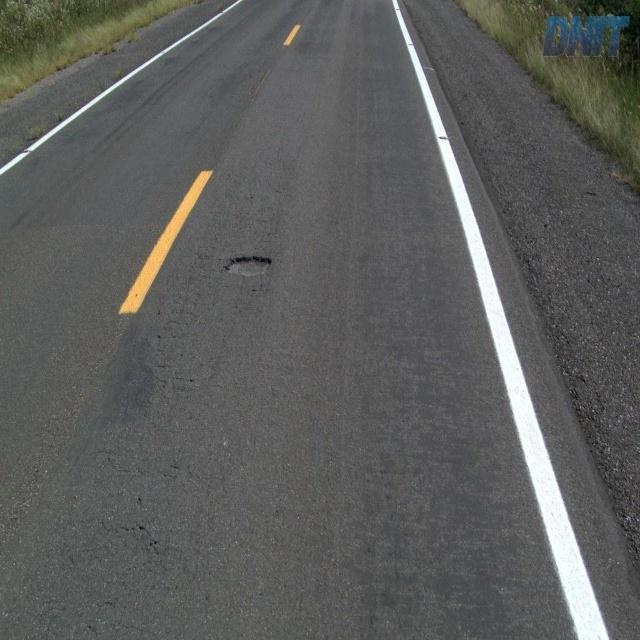pothole: (222, 248, 278, 285)
